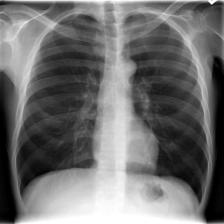normal: (11, 5, 215, 215)
